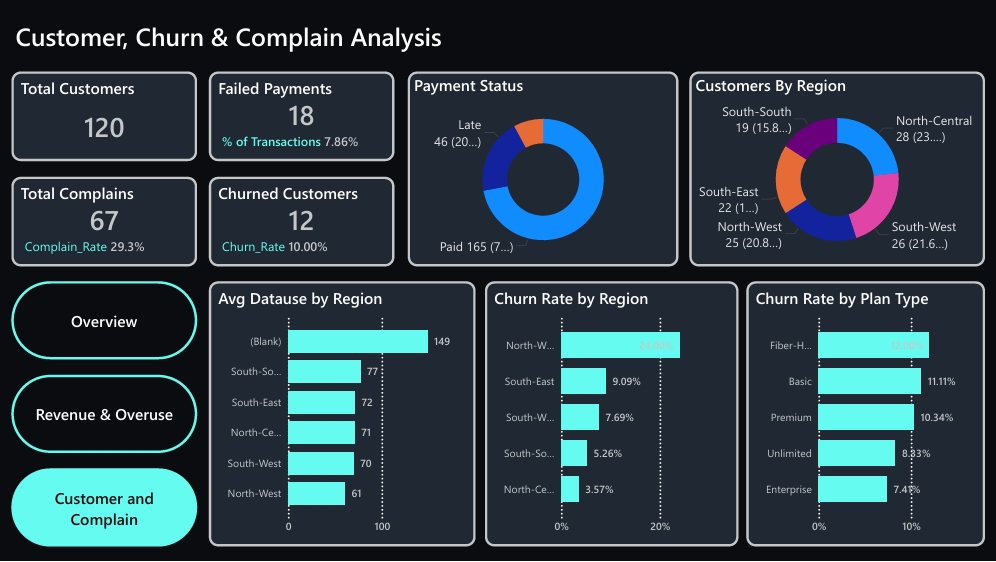

Layout of this report page (visuals, bound fields, positions):
{"tool":"powerbi","page":{"name":"Customer and Complain","canvas":[1280,720],"ordinal":2},"visuals":[{"type":"cardVisual","title":"Total Customers","fields":{"Data":["Customers_Data.Total Customers"]},"box":[15.4,92.3,237.5,114.5],"z":2000},{"type":"cardVisual","title":"Churned Customers","fields":{"Data":["Customers_Data.Churned_Customers"]},"box":[268.3,227.3,237.5,114.5],"z":3000},{"type":"clusteredBarChart","title":"Avg Datause by Region","fields":{"Y":["Billing_Data.Avg_Data_use"],"Category":["Customers_Data.Region"]},"box":[268.3,360.6,341.8,340.1],"z":4000},{"type":"donutChart","title":"Payment Status","fields":{"Category":["Billing_Data.PaymentStatus"],"Y":["CountNonNull(Billing_Data.TransactionID)"]},"box":[522.9,92.3,346.9,249.5],"z":5000},{"type":"pageNavigator","box":[15.4,360.6,237.5,340.1],"z":6000},{"type":"textbox","box":[15.4,18.8,996.3,54.7],"z":7000},{"type":"cardVisual","title":"Total Complains","fields":{"Data":["Billing_Data.Total_Support_Tickets"]},"box":[15.4,227.3,237.5,114.5],"z":8000},{"type":"cardVisual","title":"Failed Payments","fields":{"Data":["Billing_Data.Failed_Payments"]},"box":[268.3,92.3,237.5,114.5],"z":9000},{"type":"donutChart","title":"Customers By Region","fields":{"Y":["Customers_Data.Total Customers"],"Category":["Customers_Data.Region"]},"box":[883.5,92.3,379.4,249.5],"z":10000},{"type":"clusteredBarChart","title":"Churn Rate by Region","fields":{"Y":["Customers_Data.Churn_Rate"],"Category":["Customers_Data.Region"]},"box":[622.1,360.6,324.7,340.1],"z":11000},{"type":"clusteredBarChart","title":"Churn Rate by Plan Type","fields":{"Y":["Customers_Data.Churn_Rate"],"Category":["Plans_Table.PlanName"]},"box":[957,360.6,305.9,340.1],"z":12000}]}

Visuals, with their boxes in screenshot pixels (x1, y1, x2, y2), scaled from the page's 1280x720 canvas onto the 996x562 screenshot:
"Total Customers" cardVisual: left=12, top=72, right=197, bottom=161
"Churned Customers" cardVisual: left=209, top=177, right=394, bottom=267
"Avg Datause by Region" clusteredBarChart: left=209, top=281, right=475, bottom=547
"Payment Status" donutChart: left=407, top=72, right=677, bottom=267
pageNavigator: left=12, top=281, right=197, bottom=547
textbox: left=12, top=15, right=787, bottom=57
"Total Complains" cardVisual: left=12, top=177, right=197, bottom=267
"Failed Payments" cardVisual: left=209, top=72, right=394, bottom=161
"Customers By Region" donutChart: left=687, top=72, right=983, bottom=267
"Churn Rate by Region" clusteredBarChart: left=484, top=281, right=737, bottom=547
"Churn Rate by Plan Type" clusteredBarChart: left=745, top=281, right=983, bottom=547
